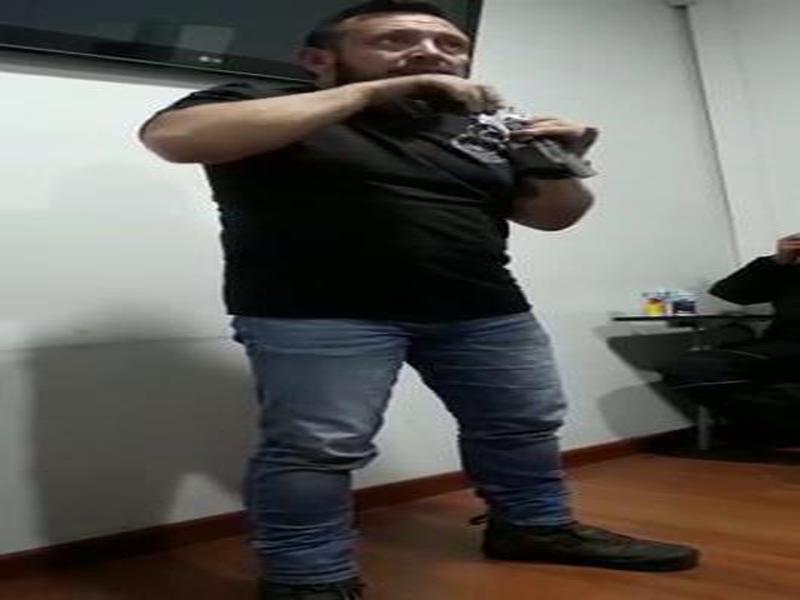Revolver: (457, 91, 614, 203)
